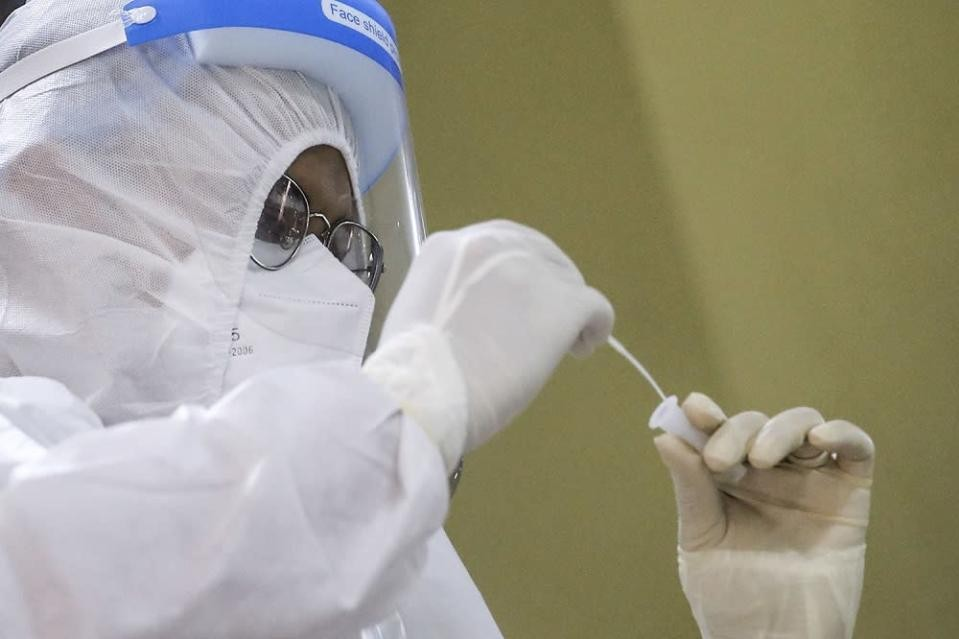Face_Shield: (132, 1, 425, 363)
Gloves: (362, 212, 620, 500), (647, 383, 871, 639)
with_mask: (226, 189, 376, 415)
